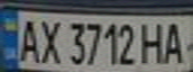1: (103, 19, 121, 65)
2: (115, 19, 139, 66)
3: (63, 18, 87, 65)
7: (81, 19, 103, 65)
A: (157, 18, 190, 65), (12, 16, 42, 63)
H: (139, 18, 169, 65)
X: (36, 16, 63, 65)
